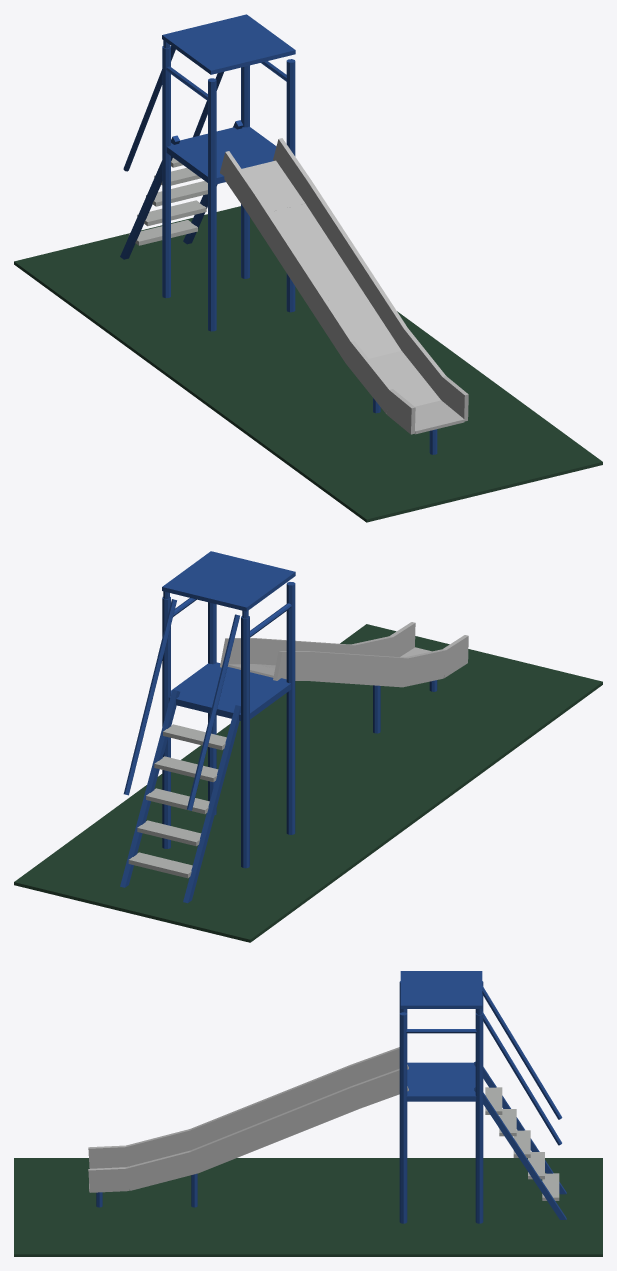
Rendered from sport.play.slide_steel.glb.
The picture shows the model from 3 angles, top to bottom: view 1: azimuth 30°, elevation 25°; view 2: azimuth 150°, elevation 25°; view 3: azimuth 270°, elevation 25°; orthographic projection. The views are drawn at different scales.
Visible parts, largest first — view 1: main__paint_243, main__steel_bbb, main__paint_259, main__paint_bbb; view 2: main__paint_243, main__paint_259, main__steel_bbb, main__paint_bbb; view 3: main__paint_243, main__steel_bbb, main__paint_259, main__paint_bbb.
Boxes of the visible parts, x1,y1,x2,y2 form: main__paint_243: (14, 206, 602, 522); main__steel_bbb: (220, 138, 468, 434); main__paint_259: (120, 14, 437, 454); main__paint_bbb: (128, 158, 207, 245); main__paint_243: (14, 624, 602, 942); main__paint_259: (120, 551, 437, 903); main__steel_bbb: (220, 622, 468, 687); main__paint_bbb: (128, 724, 226, 878); main__paint_243: (14, 1158, 602, 1256); main__steel_bbb: (88, 1047, 408, 1192); main__paint_259: (96, 971, 566, 1223); main__paint_bbb: (485, 1087, 559, 1200).
Size of the model in its own units: 2.4 by 2.63 by 6.2.
